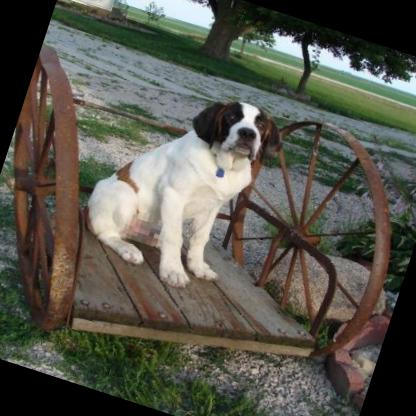Saint_Bernard: (64, 61, 295, 306)
